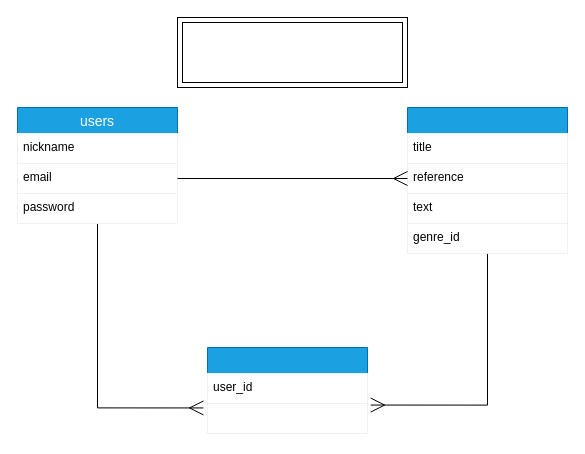
Image size: 585x454. Some labels were removed from this diagram. The box of each missing label's shape, as (x1, y1, x2, y2) in pixels:
likes: (206, 346, 368, 434)
Raills Connect DB設計: (176, 16, 408, 88)
term_id: (206, 402, 368, 434)
terms: (406, 106, 568, 254)
